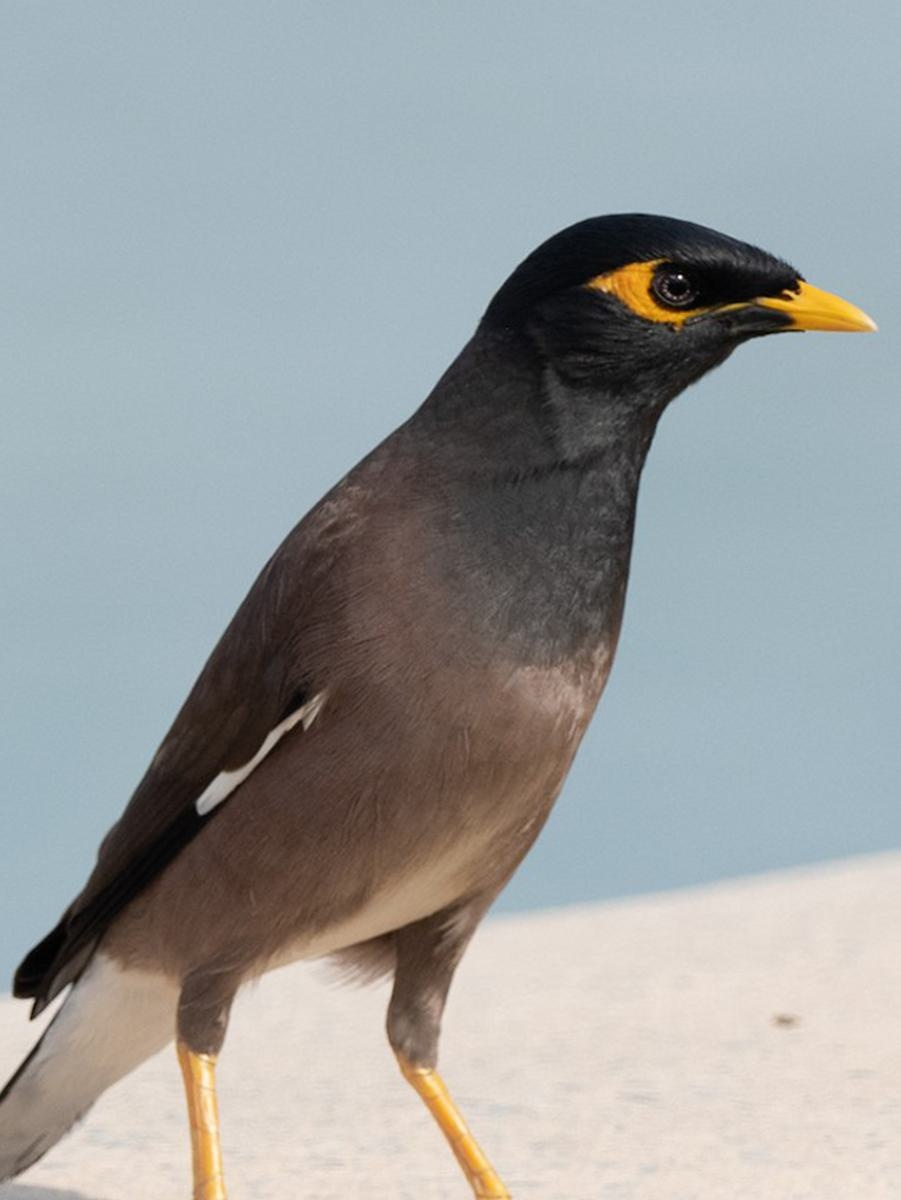myna: (18, 198, 865, 1200)
